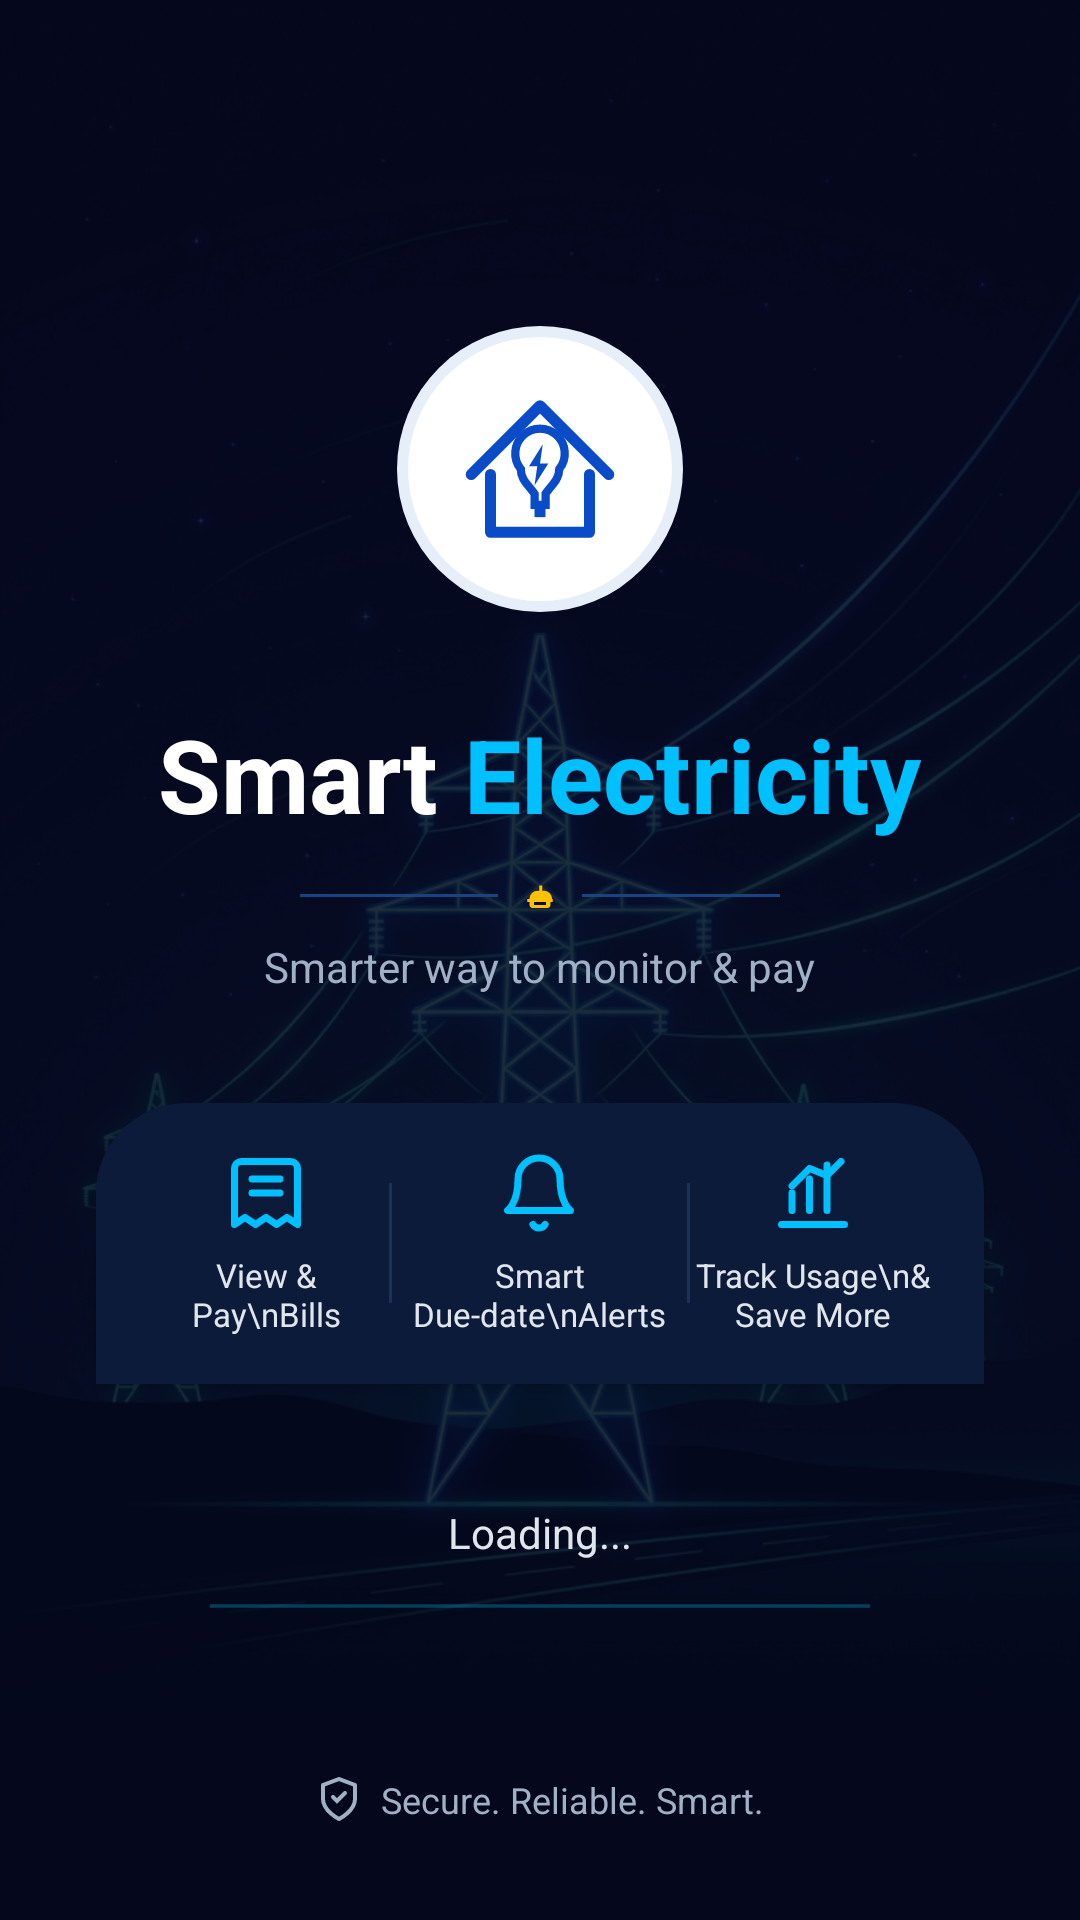

Where icons sit on this 1080*1920 app screen, as (x1, y1, x2, y2):
bell point: (504, 1154, 574, 1232)
bill point: (231, 1158, 301, 1229)
chart point: (778, 1158, 848, 1228)
shield: (321, 1777, 357, 1821)
